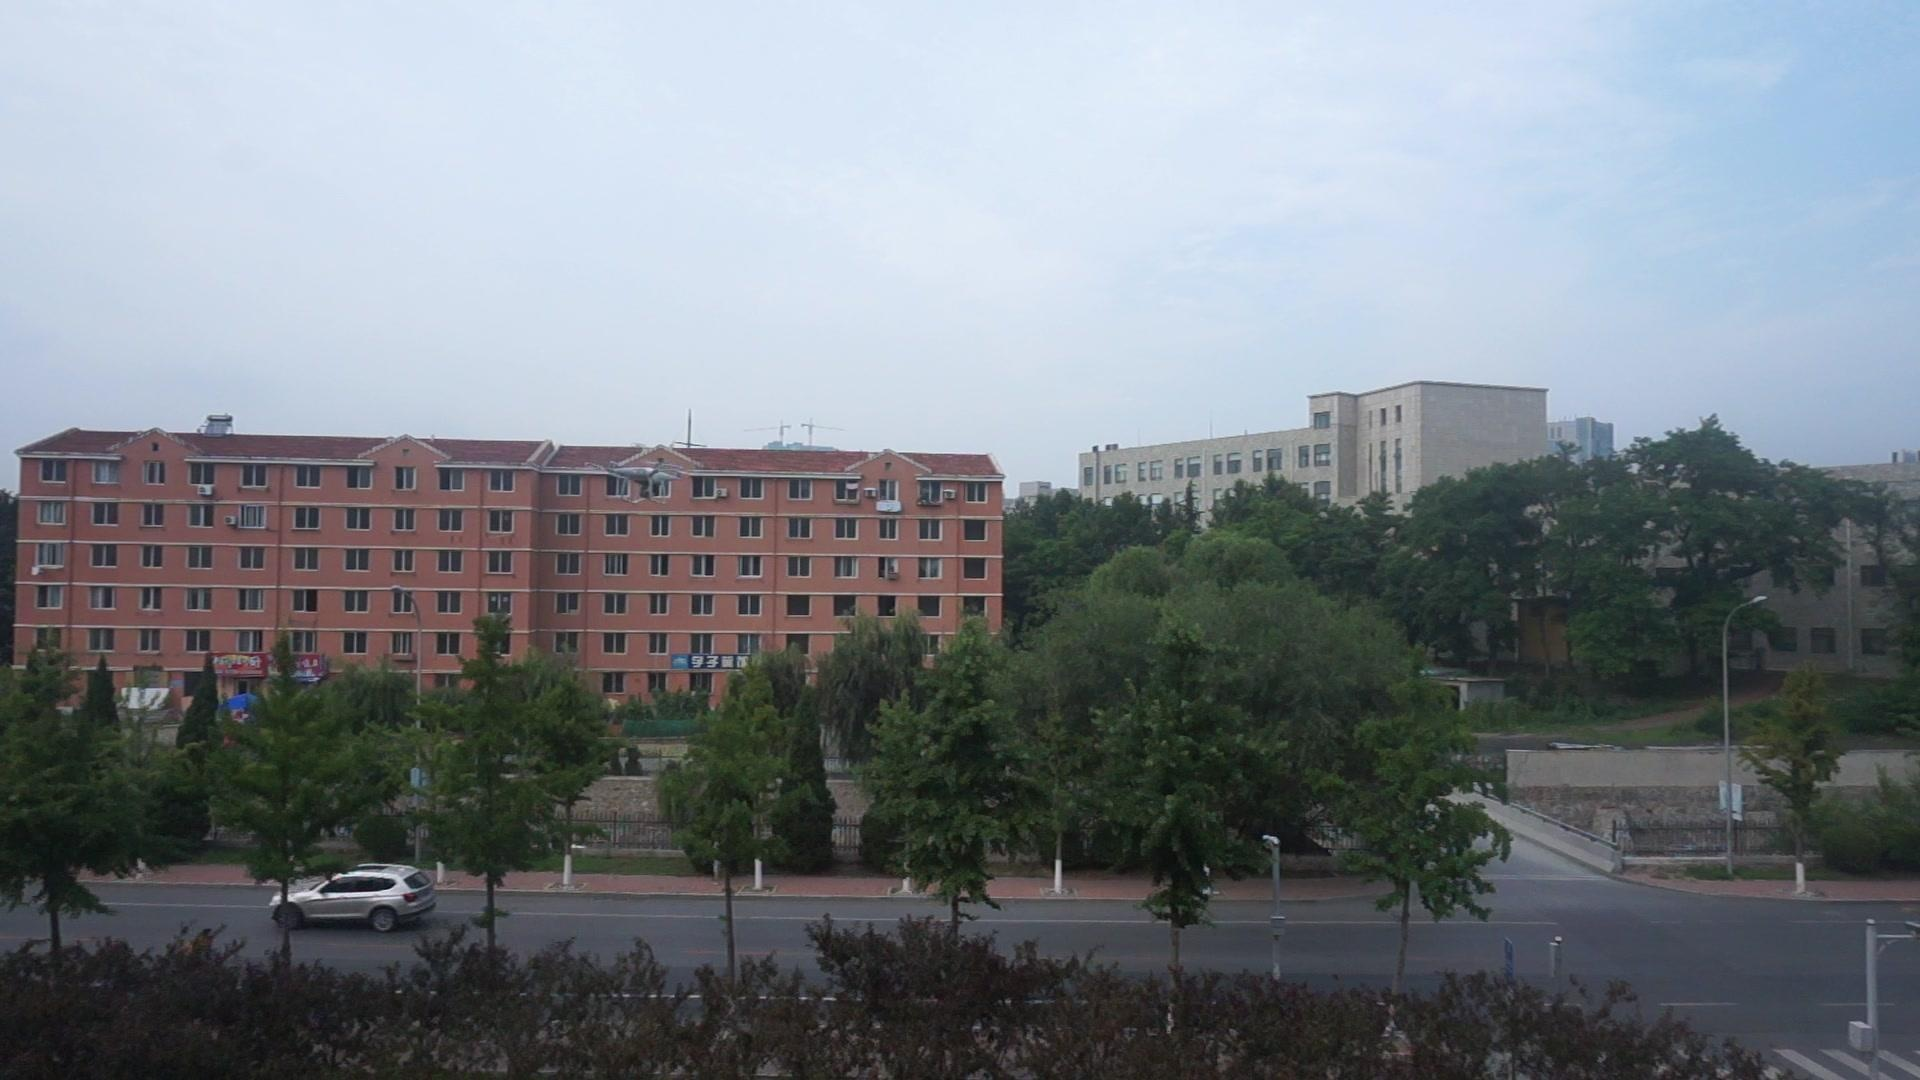UAV: (588, 459, 687, 505)
